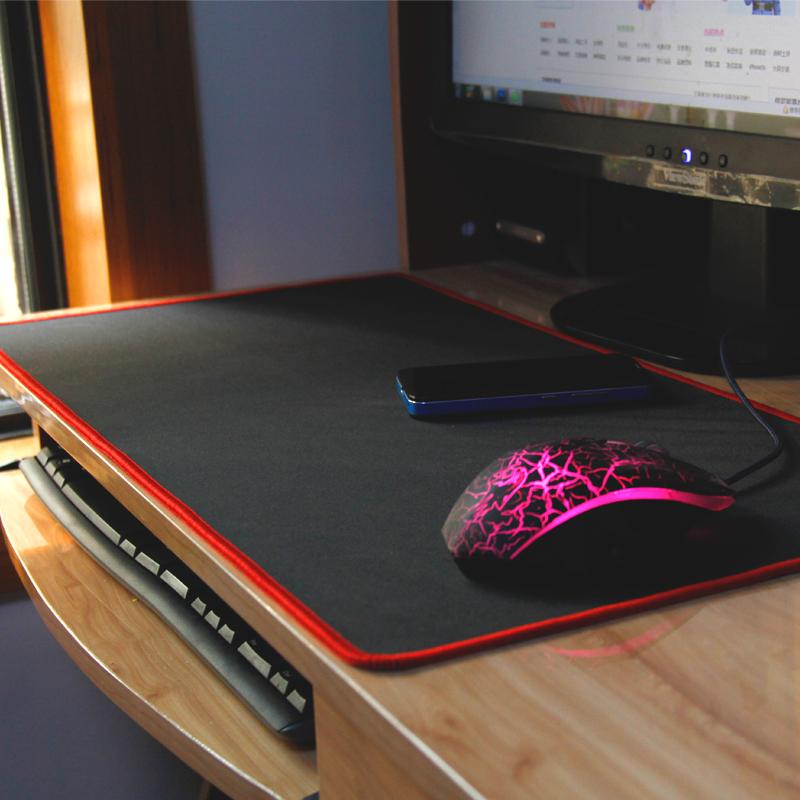mouse: (432, 419, 757, 592)
